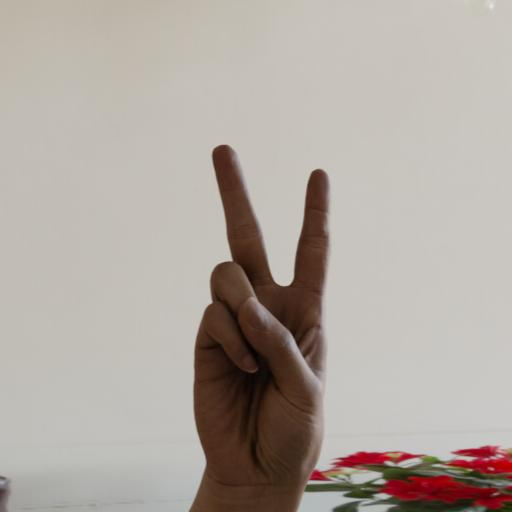V: (180, 133, 367, 512)
